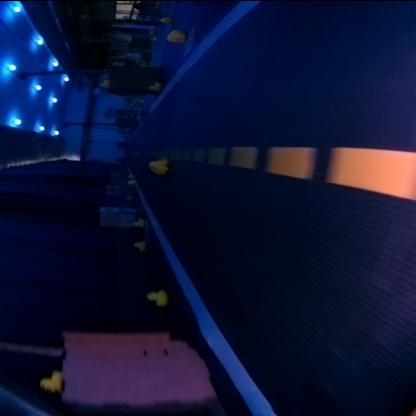Duckie: (38, 370, 62, 392), (166, 29, 186, 42), (158, 15, 168, 22), (132, 220, 140, 226), (128, 178, 132, 182)
